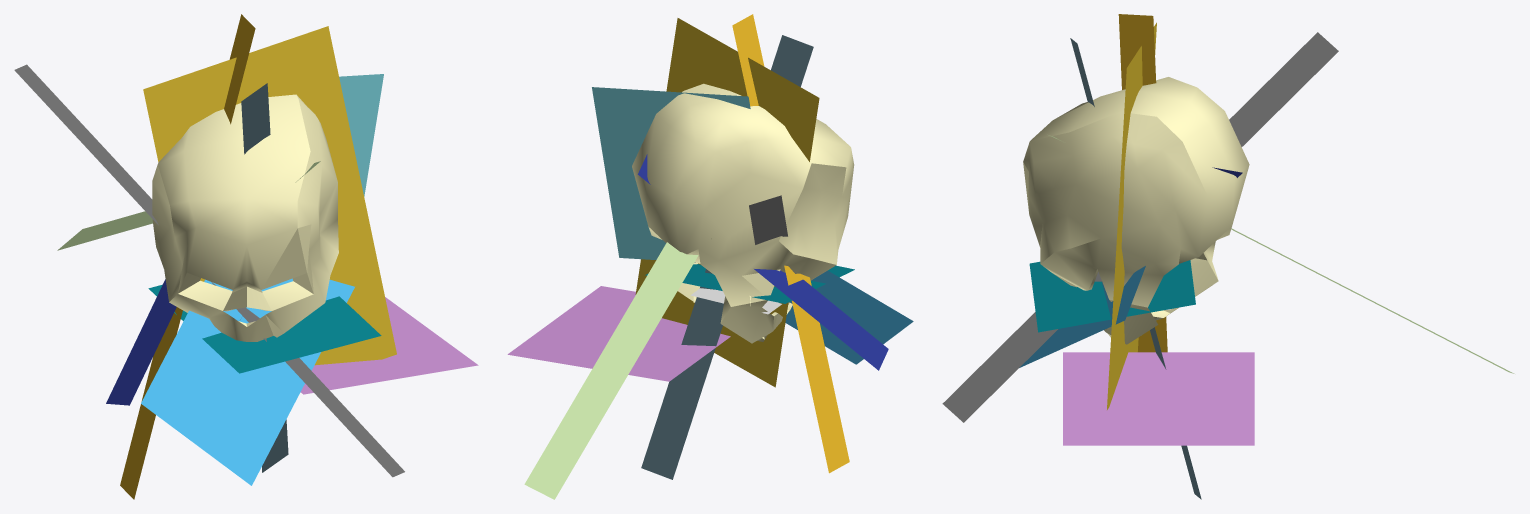
File: skull7.glb
3 views of the same model, side by side, from view 1: azimuth 30°, elevation 25°; view 2: azimuth 150°, elevation 25°; view 3: azimuth 270°, elevation 25° (orthographic). The views are drawn at different scales.
Parts seen in each view (by area): view 1: skull7, Plane.025, Plane.075, Plane.070, Plane.059, Plane.041, Plane.005, Plane.018, Plane.032, Plane.007, Plane.043; view 2: skull7, Plane.025, Plane.043, Plane.059, Plane.018, Plane.007, Plane.005, Plane.075, Plane.032, Plane.041, Plane.070; view 3: skull7, Plane.059, Plane.041, Plane.070, Plane.025, Plane.005, Plane.075, Plane.007.
Boxes of the visible parts, x1=… form: skull7: x1=152, y1=94, x2=338, y2=341; Plane.025: x1=143, y1=26, x2=396, y2=365; Plane.075: x1=141, y1=278, x2=354, y2=485; Plane.070: x1=148, y1=284, x2=381, y2=373; Plane.059: x1=300, y1=297, x2=478, y2=394; Plane.041: x1=14, y1=64, x2=404, y2=477; Plane.005: x1=120, y1=14, x2=255, y2=499; Plane.018: x1=339, y1=74, x2=383, y2=196; Plane.032: x1=106, y1=279, x2=176, y2=405; Plane.007: x1=241, y1=83, x2=288, y2=472; Plane.043: x1=57, y1=161, x2=320, y2=250; skull7: x1=632, y1=83, x2=854, y2=343; Plane.025: x1=635, y1=18, x2=819, y2=387; Plane.043: x1=524, y1=242, x2=698, y2=499; Plane.059: x1=507, y1=286, x2=730, y2=381; Plane.018: x1=592, y1=87, x2=750, y2=262; Plane.007: x1=641, y1=35, x2=813, y2=479; Plane.005: x1=732, y1=14, x2=849, y2=473; Plane.075: x1=785, y1=270, x2=913, y2=364; Plane.032: x1=638, y1=154, x2=888, y2=370; Plane.041: x1=749, y1=195, x2=787, y2=244; Plane.070: x1=645, y1=264, x2=854, y2=303; skull7: x1=1023, y1=77, x2=1249, y2=344; Plane.059: x1=1063, y1=352, x2=1254, y2=445; Plane.041: x1=942, y1=32, x2=1338, y2=422; Plane.070: x1=1029, y1=260, x2=1195, y2=332; Plane.025: x1=1107, y1=22, x2=1156, y2=409; Plane.005: x1=1118, y1=14, x2=1167, y2=352; Plane.075: x1=1019, y1=266, x2=1145, y2=367; Plane.007: x1=1070, y1=38, x2=1201, y2=499.
Size of what is drawn, in the model's own units: 10.76 by 14.77 by 16.73.
1 material, 1 textured.
